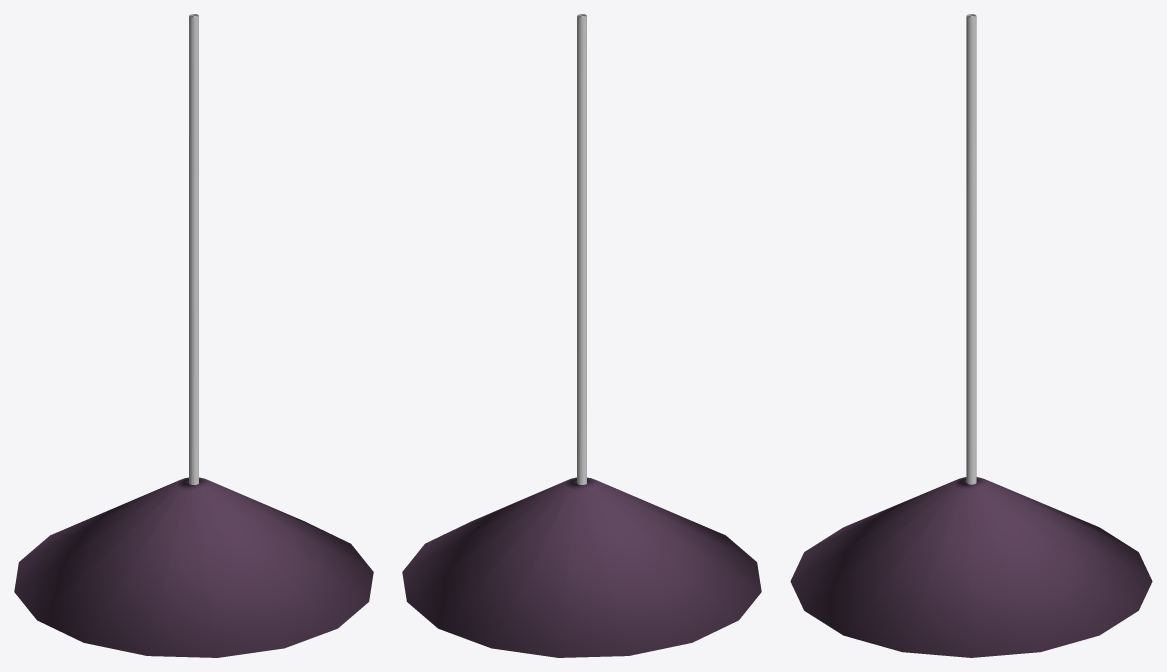
File: Bar01_Lampara.fbx
3 views of the same model, side by side, from view 1: azimuth 30°, elevation 25°; view 2: azimuth 150°, elevation 25°; view 3: azimuth 270°, elevation 25° (orthographic).
Visible parts, largest first — view 1: Cylinder.018; view 2: Cylinder.018; view 3: Cylinder.018.
Part boxes in pixels (box(x1,y1,x2,y2)): Cylinder.018: box(14, 14, 373, 657); Cylinder.018: box(402, 14, 761, 657); Cylinder.018: box(790, 14, 1152, 657).
Bounding box in the file's own units: 55.56 × 96.48 × 55.56.
